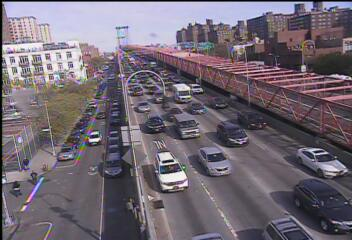neg: (309, 179, 342, 223), (226, 46, 258, 89), (141, 85, 168, 121), (220, 168, 246, 203), (268, 67, 293, 100), (202, 66, 224, 95), (192, 117, 214, 146), (218, 29, 235, 51), (154, 22, 170, 43), (306, 25, 321, 45), (175, 3, 189, 22), (321, 140, 334, 158), (197, 161, 207, 174)
pos: (6, 177, 22, 198), (28, 169, 41, 186), (19, 158, 31, 174)
